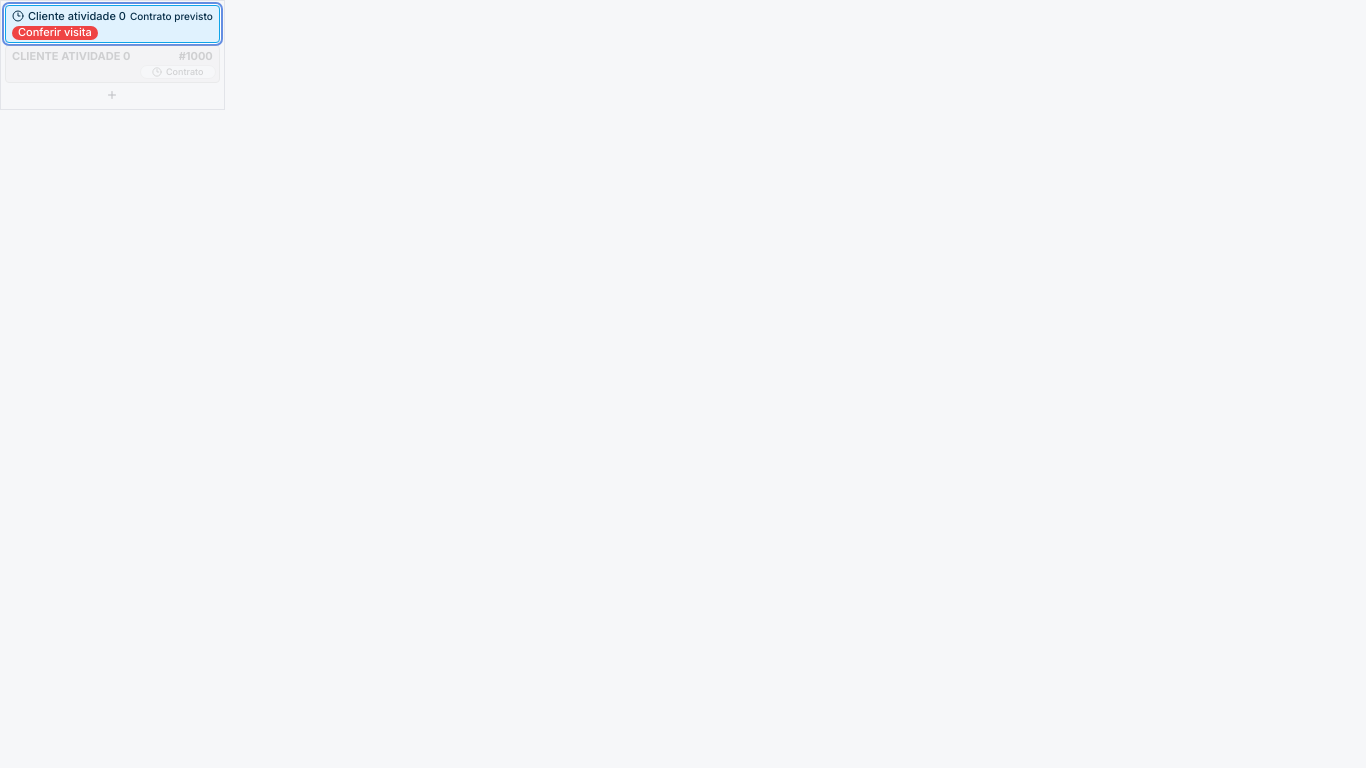
Test: atividades da célula real da agenda › preserva a faixa com tags mesmo quando a tarefa já tem selo contratual
Check: the text "Conferir visita" is shown, box [12,26,98,40]
Click the button "Cliente atividade 0 Contrato previsto Conferir visita". click: (112, 24)
box: [5,5,220,43]
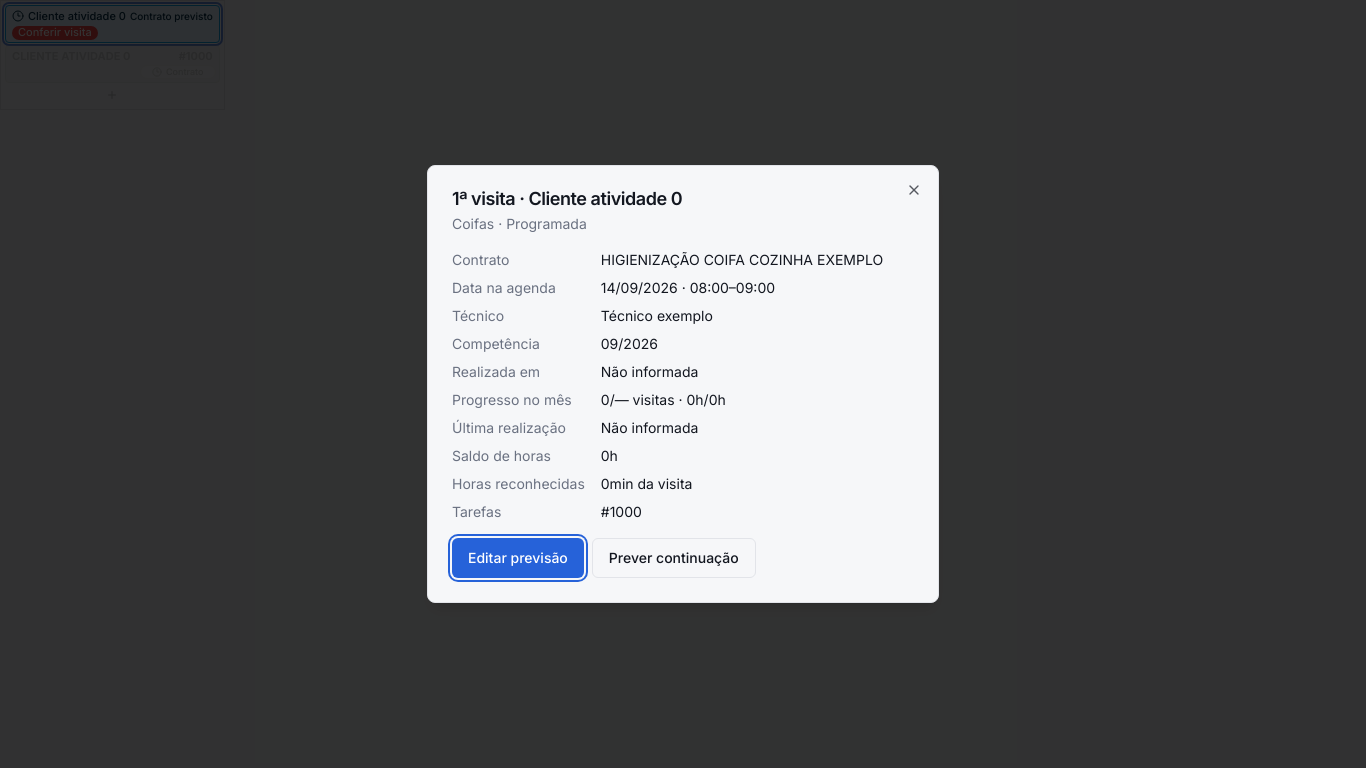
Check: the dialog is shown, box [427,165,939,603]
